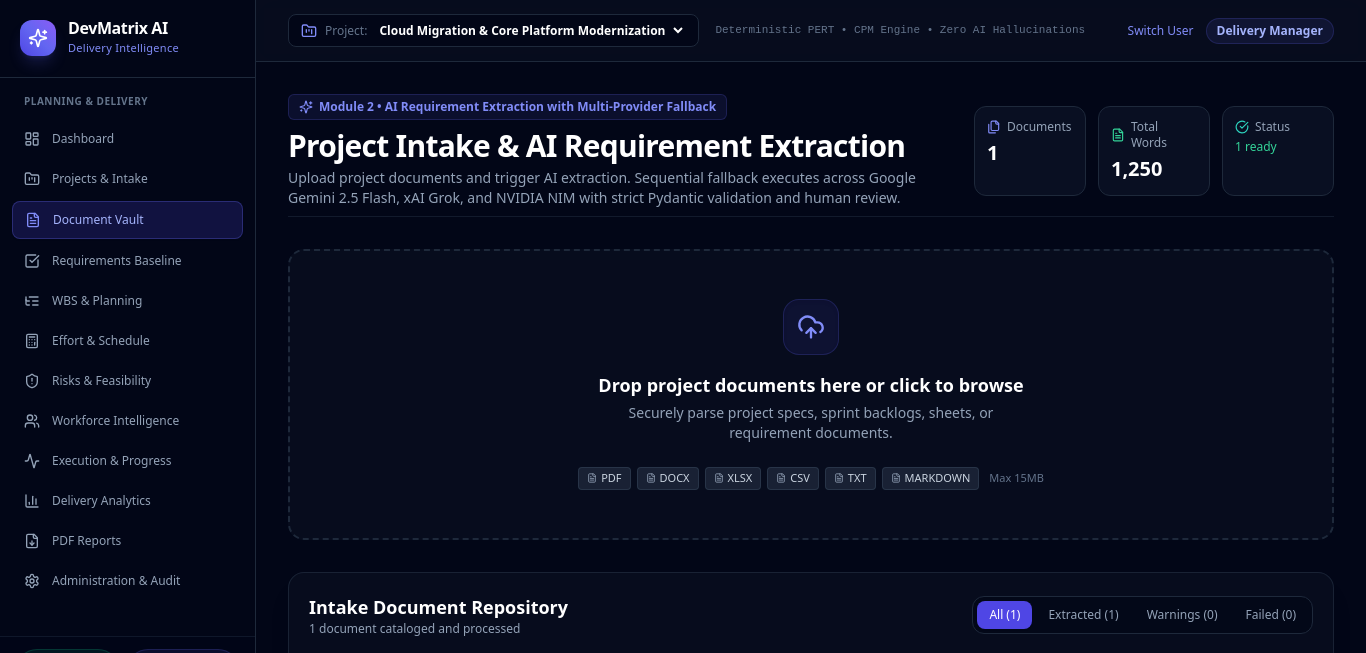
Test: Project List and Selection State Integration › synchronizes selection when choosing a project in the dropdown
The width and height of the screenshot is (1366, 653).
# Select second project
Select "OmniChannel Banking Migration" in the dropdown with test id "project-selector-dropdown" at (531, 30), box top-left (375, 21), bottom-right (686, 40)
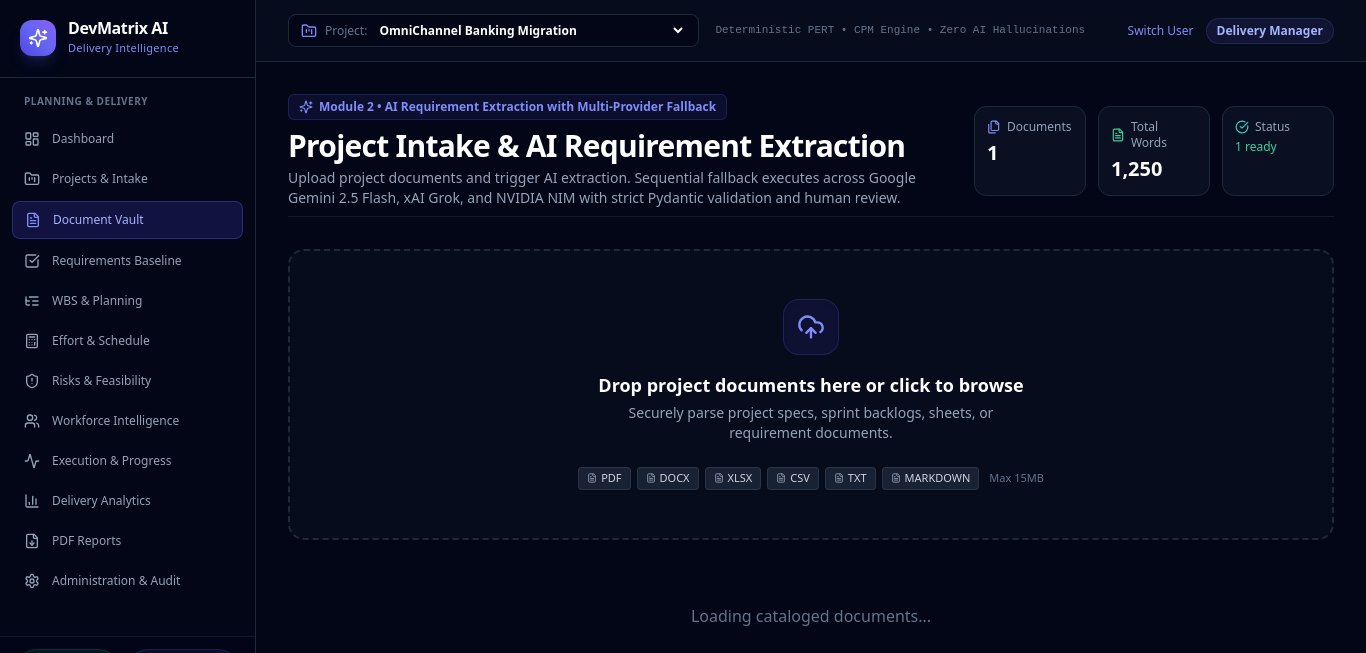
# Switch to Dashboard and verify project title is synchronized
Click the button "Dashboard" at (128, 138), box top-left (12, 120), bottom-right (243, 156)
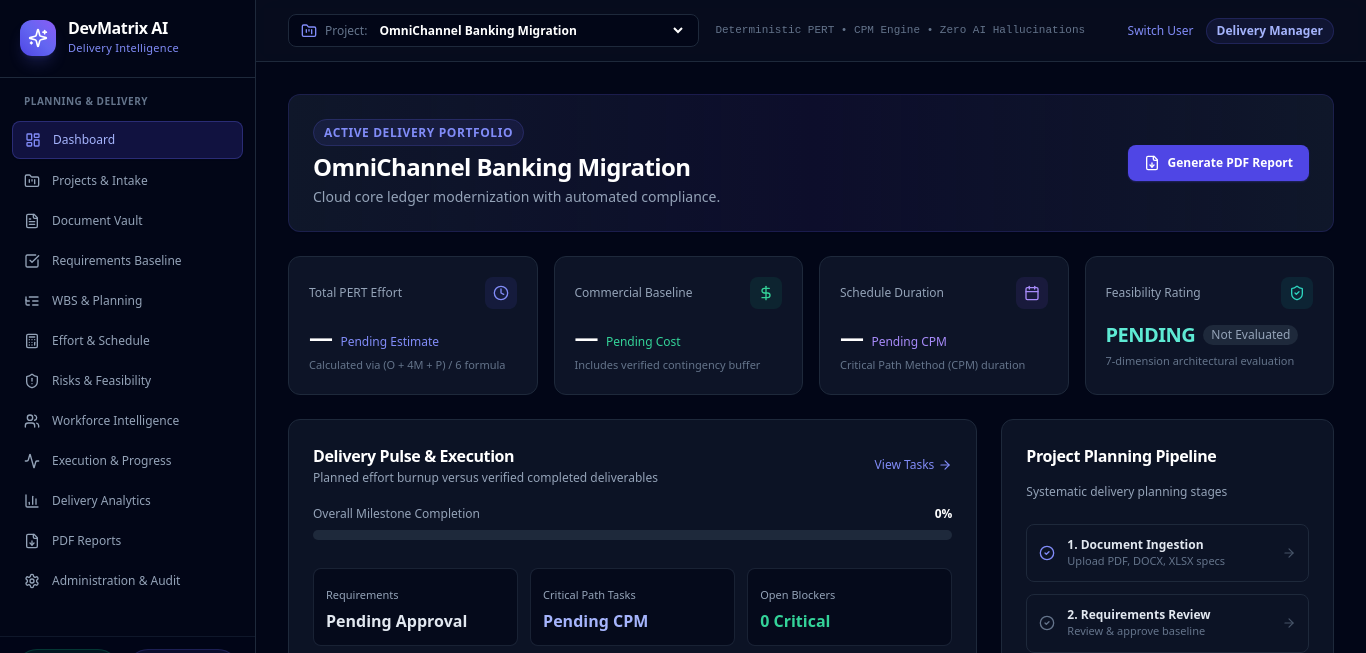
Check: the heading "OmniChannel Banking Migration" is shown, box top-left (313, 151), bottom-right (720, 183)
